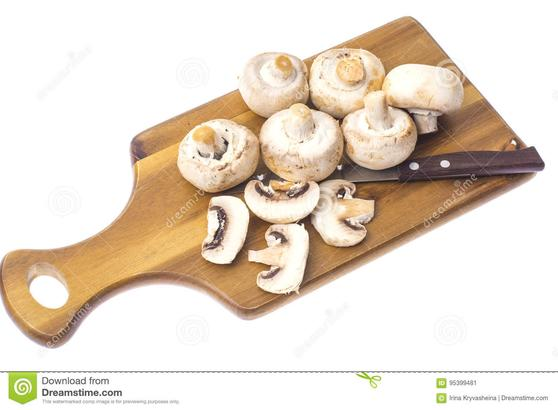champignon: (341, 92, 419, 172), (177, 121, 259, 188), (243, 223, 311, 296), (311, 180, 376, 249)
